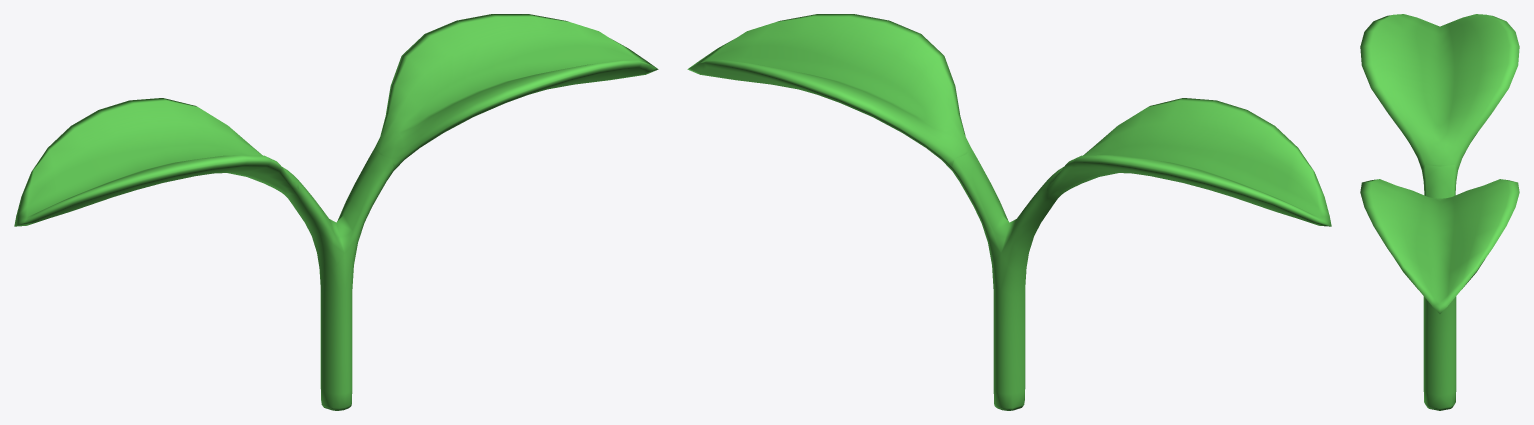
File: Sprout.fbx
The picture shows the model from 3 angles, left to right: view 1: azimuth 30°, elevation 25°; view 2: azimuth 150°, elevation 25°; view 3: azimuth 270°, elevation 25°; orthographic projection. The views are drawn at different scales.
Visible parts, largest first — view 1: Sprout; view 2: Sprout; view 3: Sprout.
Part boxes in pixels (box(x1,y1,x2,y2)): Sprout: box(14, 14, 658, 410); Sprout: box(687, 14, 1331, 410); Sprout: box(1360, 14, 1519, 410).
Bounding box in the file's own units: 47.29 × 22.06 × 11.07.
